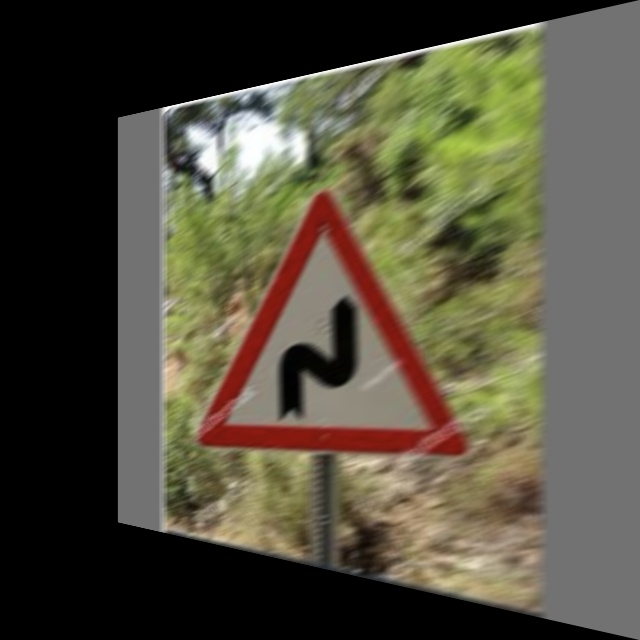Right_Reverse_Bend: (195, 172, 467, 462)
